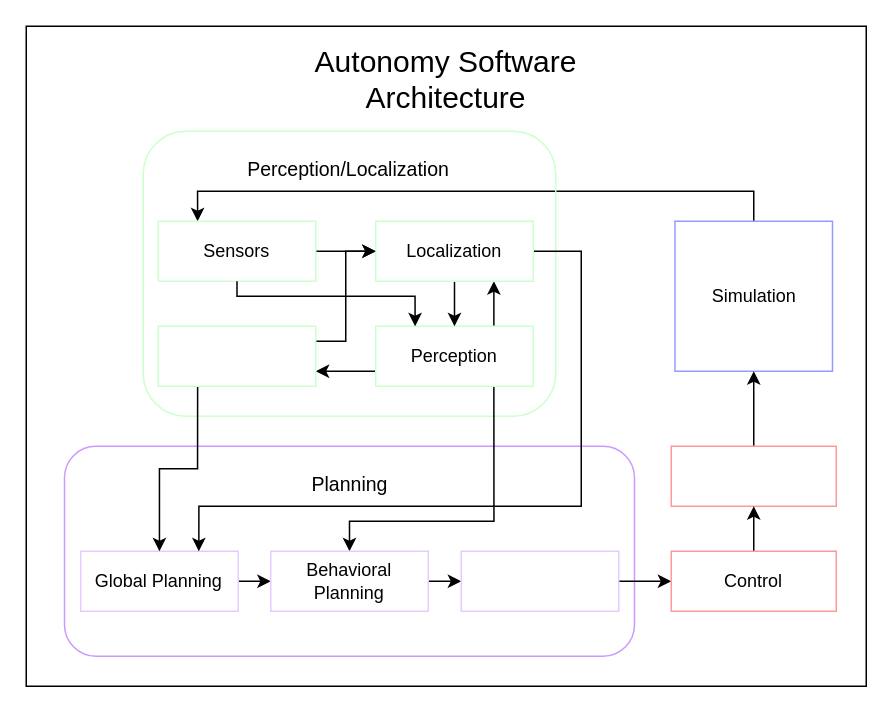
The diagram is 893 pixels wide and 713 high, and some of its shapes have lost their labels. Each missing label, with the centre of its shape:
"Actuation" goes at point 753,475.
"Local Planning" goes at point 539,580.
"Mapping Database" goes at point 236,355.
